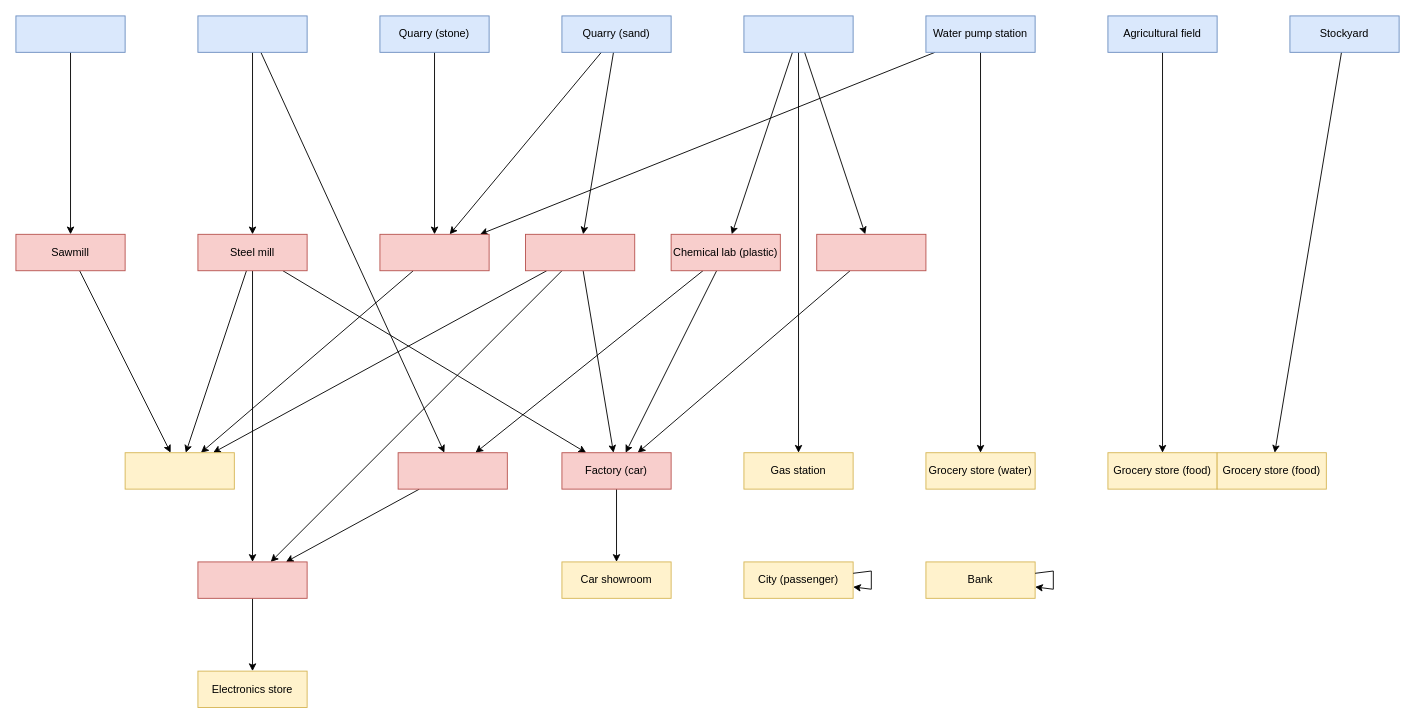
Some shapes in this 1415 by 723 pixel diagram are drawn without their labels. Each missing label, with the centre of its shape:
"Chemical lab (rubber)" goes at pixel 871 252.
"Construction site" goes at pixel 179 470.
"Factory (cement)" goes at pixel 434 252.
"Factory (electric circuit)" goes at pixel 452 470.
"Factory (electronics)" goes at pixel 252 579.
"Factory (glass)" goes at pixel 580 252.
"Forestry" goes at pixel 70 33.
"Iron Mine" goes at pixel 252 33.
"Oil well" goes at pixel 798 33.
